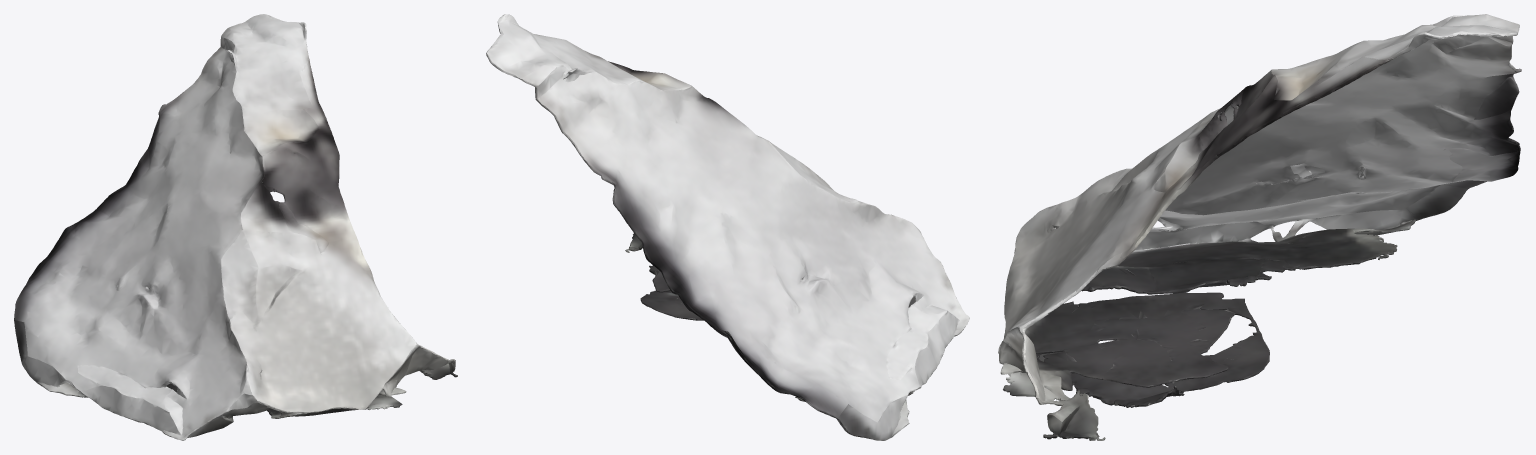
3 views of the same model, side by side, from view 1: azimuth 30°, elevation 25°; view 2: azimuth 150°, elevation 25°; view 3: azimuth 270°, elevation 25° (orthographic). The views are drawn at different scales.
Visible parts, largest first — view 1: world; view 2: world; view 3: world.
Part boxes in pixels (box(x1,y1,x2,y2)): world: box(14, 14, 457, 440); world: box(486, 14, 969, 440); world: box(998, 14, 1521, 440).
Size of the model in its own units: 0.18 by 0.1534 by 0.1783.
1 material, 1 textured.
